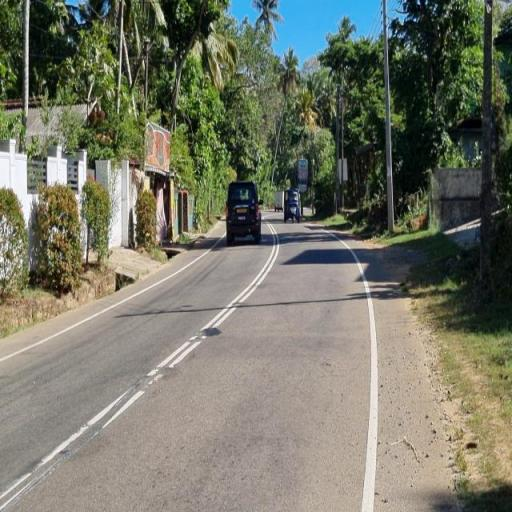double_white_line: (146, 223, 280, 384)
